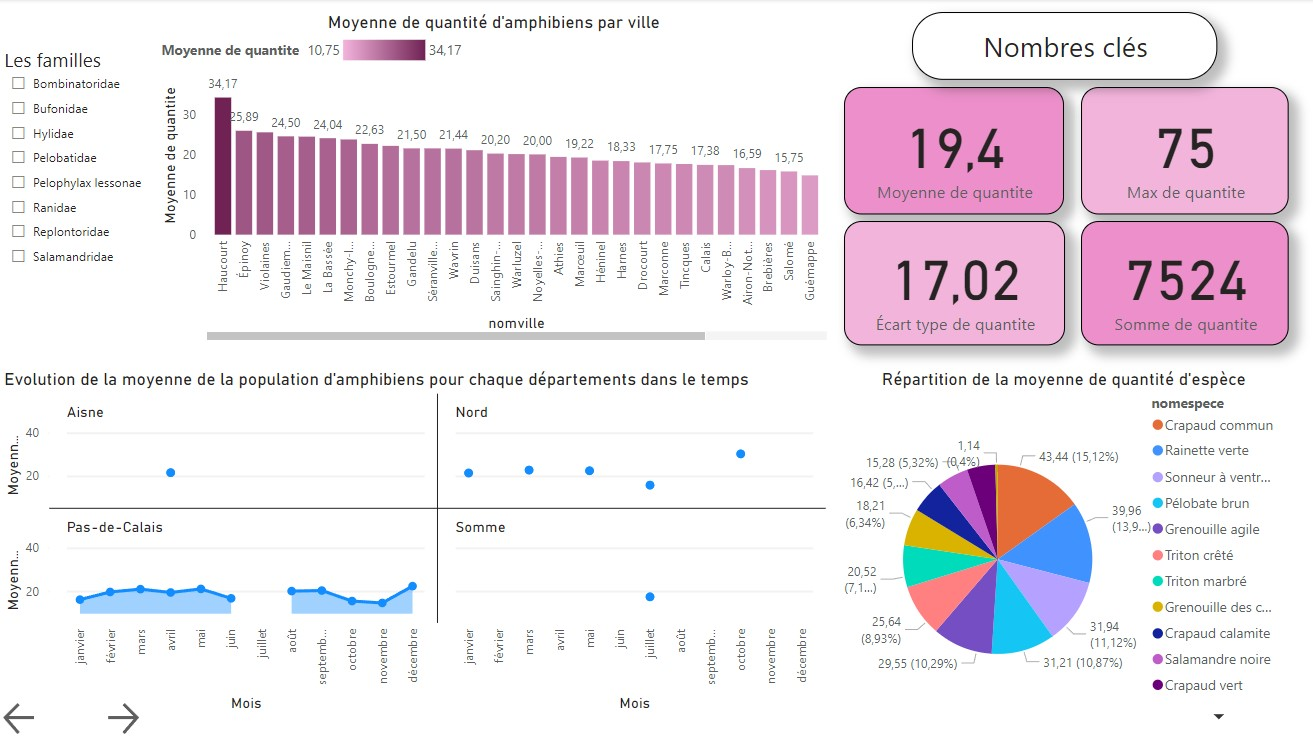

The page's visual inventory and layout, read from the dashboard file:
{"tool":"powerbi","page":{"name":"Population d'amphibiens","canvas":[1280,720],"ordinal":1},"visuals":[{"type":"clusteredColumnChart","title":"Moyenne de quantité d''amphibiens par ville","fields":{"Category":["public ville.nomville"],"Y":["Avg(public est_a_propos.quantite)"]},"box":[152.7,12.6,657.5,323.9],"z":0},{"type":"areaChart","title":"Evolution de la moyenne de la population d''amphibiens pour chaque départements dans le temps","fields":{"Category":["public fiche_comptage.datecomptage.Variation.Hiérarchie de dates.Année","public fiche_comptage.datecomptage.Variation.Hiérarchie de dates.Mois"],"Y":["Avg(public est_a_propos.quantite)"],"Rows":["public departement.nomdepartement"]},"box":[0,359.9,810.2,338.5],"z":1000},{"type":"pieChart","title":"Répartition de la moyenne de quantité d''espèce","fields":{"Y":["Avg(public est_a_propos.quantite)"],"Category":["public amphibien.nomespece"]},"box":[817,359.9,437.7,351.1],"z":2000},{"type":"card","fields":{"Values":["Max(public est_a_propos.quantite)"]},"box":[1052.4,85.6,202.3,124.5],"z":3000},{"type":"card","fields":{"Values":["Avg(public est_a_propos.quantite)"]},"box":[821.9,85.6,214,124.5],"z":4000},{"type":"card","fields":{"Values":["Sum(public est_a_propos.quantite)"]},"box":[821.9,215.9,215,120.6],"z":5000},{"type":"card","title":"Nombre d''amphibiens comptés depuis le début","fields":{"Values":["Sum(public est_a_propos.quantite)"]},"box":[1052.4,215.9,202.3,120.6],"z":6000},{"type":"textbox","box":[888,12.6,296.7,66.1],"z":7000},{"type":"slicer","title":"Les familles","fields":{"Values":["public famille.nomfamille"]},"box":[0,45.7,152.7,226.6],"z":8000},{"type":"actionButton","box":[0,679.9,100.2,40.1],"z":9000},{"type":"actionButton","box":[100.2,679.9,100.2,40.1],"z":10000}]}

Visuals, with their boxes in screenshot pixels (x1, y1, x2, y2), scaled from the page's 1280x720 canvas onto the 1313x738 screenshot:
"Moyenne de quantité d''amphibiens par ville" clusteredColumnChart: {"left": 157, "top": 13, "right": 831, "bottom": 345}
"Evolution de la moyenne de la population d''amphibiens pour chaque départements dans le temps" areaChart: {"left": 0, "top": 369, "right": 831, "bottom": 716}
"Répartition de la moyenne de quantité d''espèce" pieChart: {"left": 838, "top": 369, "right": 1287, "bottom": 729}
card - Max(public est_a_propos.quantite): {"left": 1080, "top": 88, "right": 1287, "bottom": 215}
card - Avg(public est_a_propos.quantite): {"left": 843, "top": 88, "right": 1063, "bottom": 215}
card - Sum(public est_a_propos.quantite): {"left": 843, "top": 221, "right": 1064, "bottom": 345}
"Nombre d''amphibiens comptés depuis le début" card: {"left": 1080, "top": 221, "right": 1287, "bottom": 345}
textbox: {"left": 911, "top": 13, "right": 1215, "bottom": 81}
"Les familles" slicer: {"left": 0, "top": 47, "right": 157, "bottom": 279}
actionButton: {"left": 0, "top": 697, "right": 103, "bottom": 737}
actionButton: {"left": 103, "top": 697, "right": 206, "bottom": 737}
